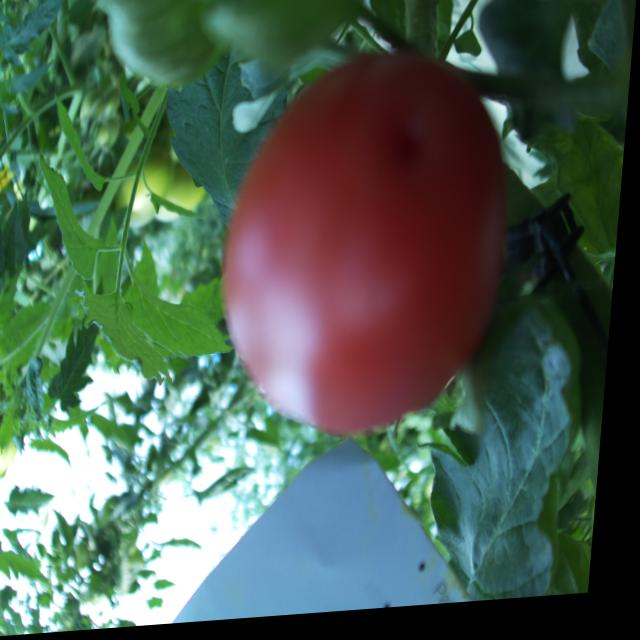kirmizi: (212, 42, 533, 438)
